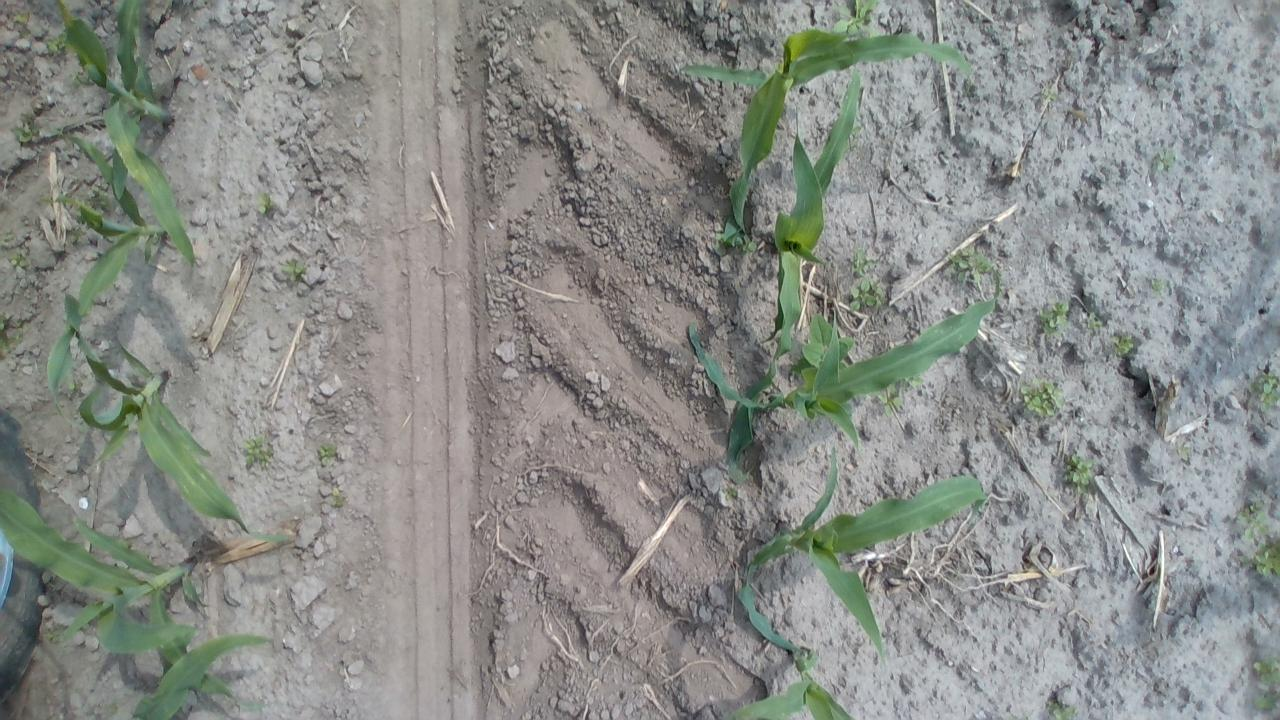Maize: (52, 280, 299, 552), (683, 294, 1002, 496), (678, 30, 979, 243), (0, 480, 270, 717), (726, 441, 1005, 664), (50, 123, 206, 422), (48, 0, 200, 274), (759, 68, 868, 386), (110, 637, 278, 720), (711, 648, 890, 720)
Weeds: (794, 309, 854, 384), (1235, 500, 1280, 581), (945, 246, 1007, 290), (875, 374, 923, 420), (1016, 376, 1068, 418), (1248, 656, 1280, 720), (832, 0, 882, 39), (846, 276, 889, 316), (1036, 302, 1074, 341), (241, 434, 281, 470), (1249, 369, 1280, 414), (714, 226, 758, 257), (1064, 450, 1092, 485), (845, 246, 875, 277), (1042, 698, 1084, 720), (13, 122, 48, 145), (280, 256, 310, 280), (42, 34, 72, 57), (1144, 274, 1174, 297), (1107, 333, 1134, 358), (85, 185, 110, 212), (258, 192, 282, 220), (6, 247, 35, 269), (1148, 148, 1170, 176), (41, 626, 69, 647), (317, 442, 340, 466), (1082, 314, 1106, 336), (67, 70, 93, 88), (327, 488, 349, 509), (0, 314, 13, 344)
